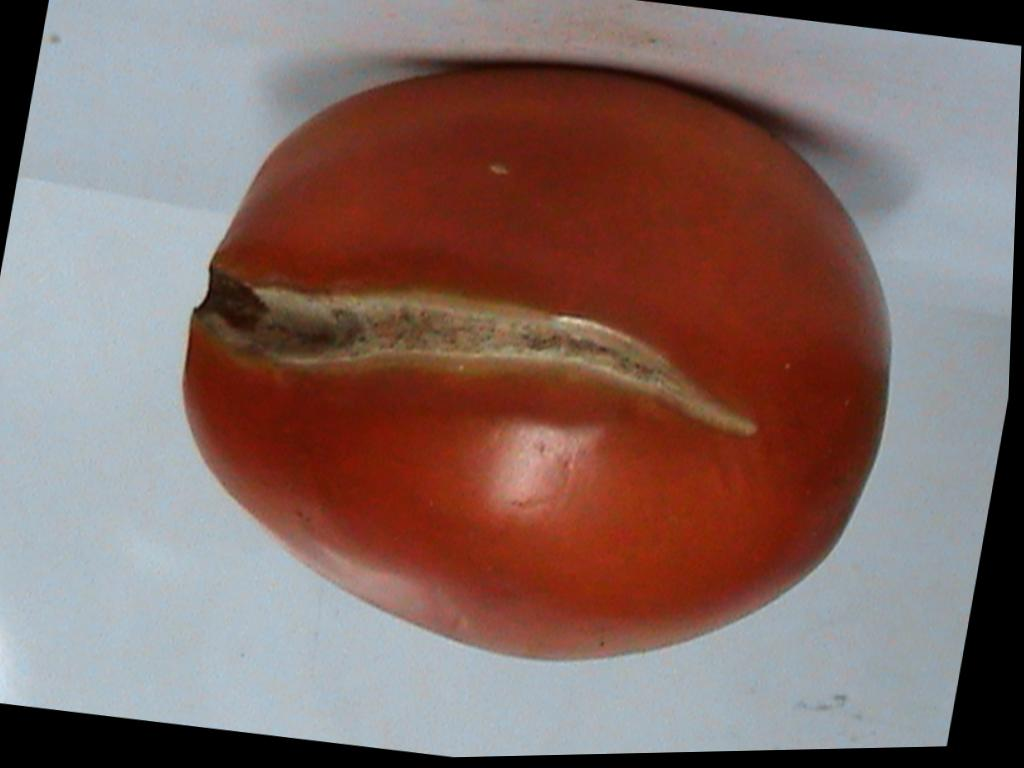surface_damage: (196, 271, 757, 435)
tomato: (184, 71, 890, 659)
